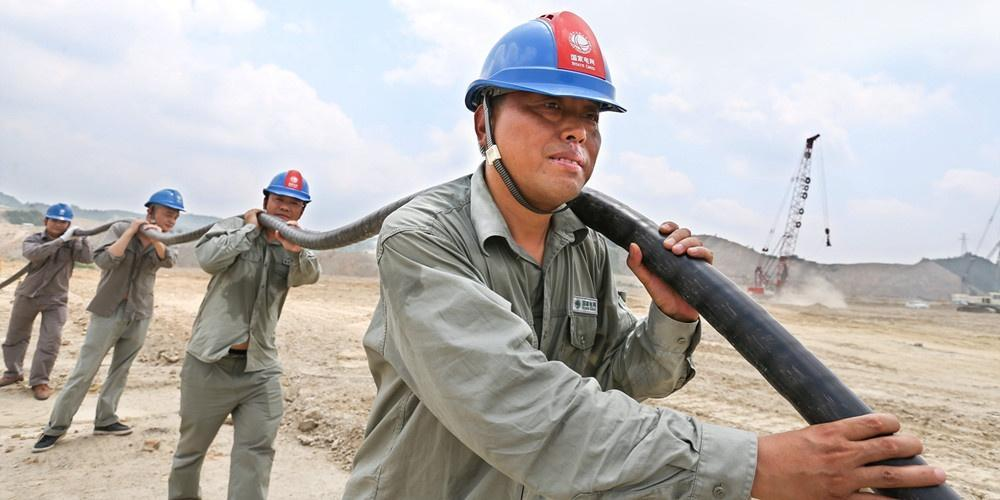gloves: (59, 225, 84, 244)
helmet: (463, 10, 629, 114), (261, 169, 312, 204), (144, 188, 188, 213), (45, 202, 75, 223)
no-gloves: (745, 410, 947, 500), (626, 218, 716, 323), (274, 219, 306, 254), (142, 224, 166, 246), (244, 208, 265, 231), (129, 218, 150, 234)
no-shoes: (32, 424, 68, 452), (93, 420, 134, 436)
no-vest: (344, 167, 651, 500), (186, 214, 322, 375), (84, 222, 180, 323), (16, 230, 96, 300)
person: (341, 9, 947, 500), (165, 168, 324, 500), (31, 188, 188, 454), (0, 201, 97, 402)
shoes: (0, 369, 27, 387), (31, 378, 52, 401)
